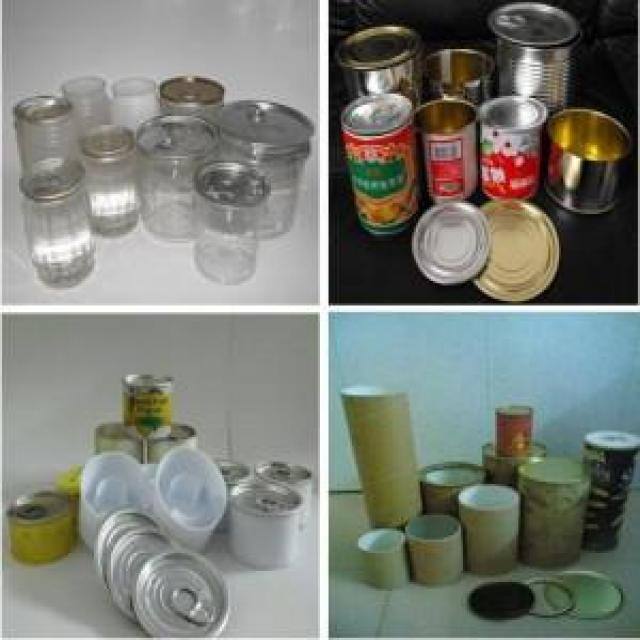metel: (340, 2, 639, 319), (6, 335, 320, 636), (338, 359, 640, 633), (492, 1, 599, 150), (342, 93, 423, 240), (552, 107, 635, 223), (581, 425, 640, 565), (3, 479, 82, 573), (456, 490, 533, 582), (111, 366, 188, 453), (233, 485, 302, 574), (552, 568, 629, 626)
others: (5, 4, 323, 301), (134, 116, 222, 256), (189, 167, 283, 294), (23, 169, 98, 296)
